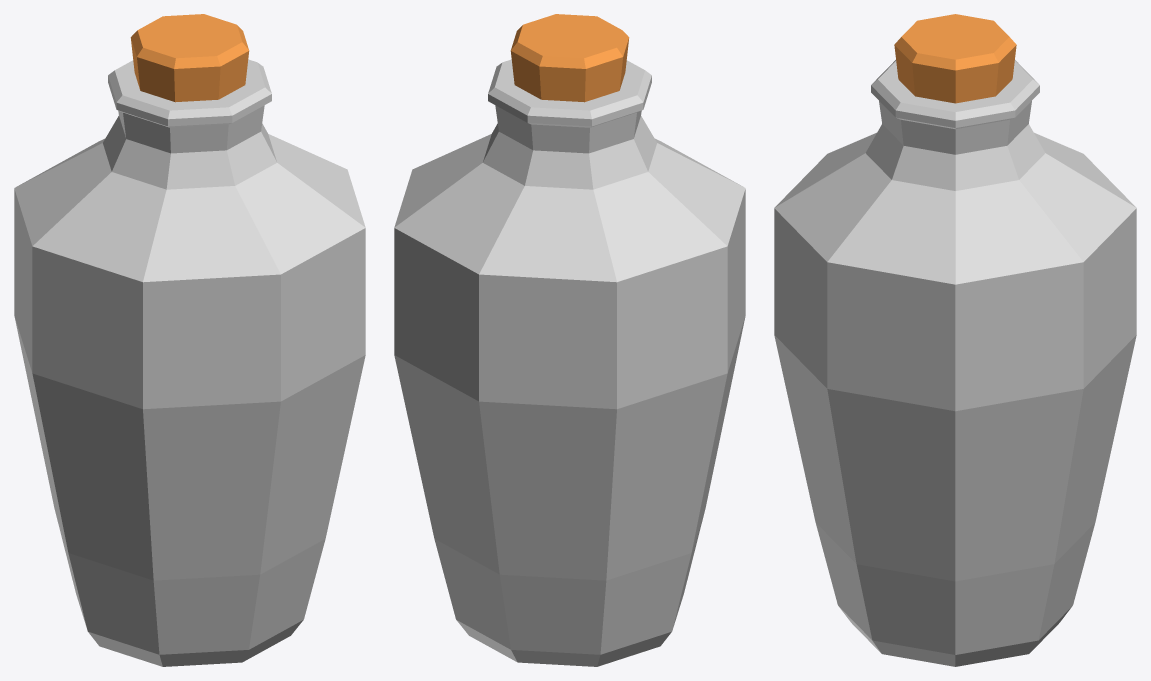
Rendered from PotionStregth.fbx.
The picture shows the model from 3 angles, left to right: view 1: azimuth 30°, elevation 25°; view 2: azimuth 150°, elevation 25°; view 3: azimuth 270°, elevation 25°; orthographic projection.
Visible parts, largest first — view 1: Flask, Cork; view 2: Flask, Cork; view 3: Flask, Cork.
Boxes of the visible parts, <box> form: Flask: <box>14,59,365,666</box>; Cork: <box>130,14,249,102</box>; Flask: <box>394,59,745,666</box>; Cork: <box>510,14,629,102</box>; Flask: <box>774,60,1136,666</box>; Cork: <box>894,14,1016,103</box>.
Bounding box in the file's own units: 273 × 488 × 273.
